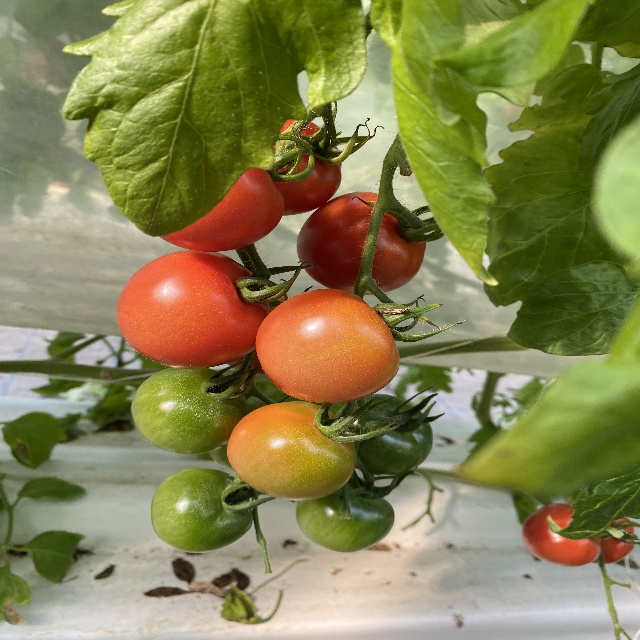l_fully_ripened: (115, 249, 270, 369), (298, 191, 428, 295), (158, 166, 287, 252), (266, 118, 341, 215), (520, 503, 601, 567), (593, 516, 634, 564)
l_green: (131, 367, 251, 455), (150, 467, 258, 552), (337, 393, 435, 476), (296, 482, 396, 553), (592, 116, 640, 259)
l_half_ripened: (254, 288, 400, 404), (227, 401, 358, 499)
